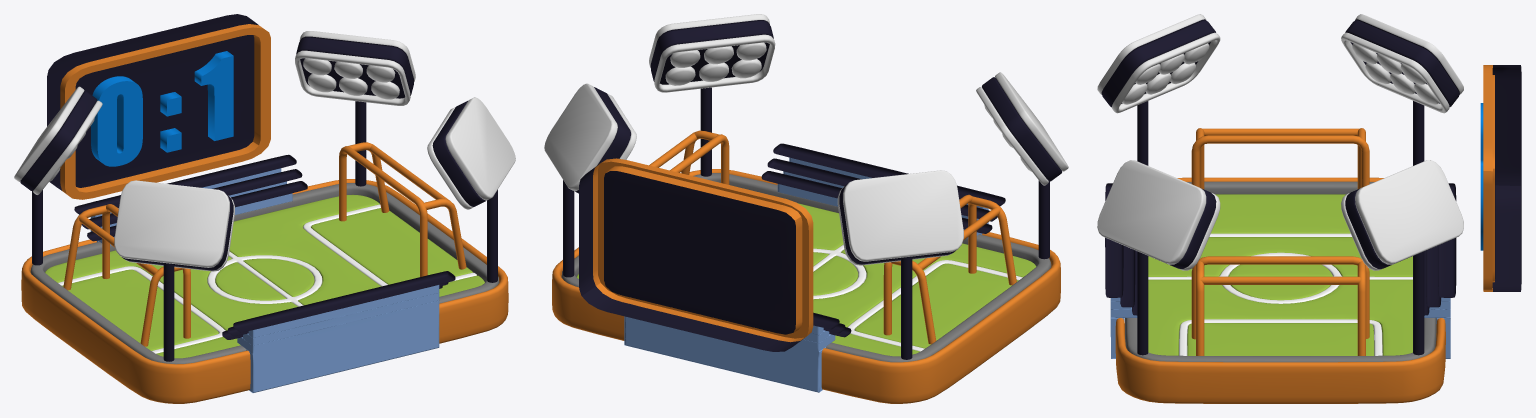
3 renders of one model, left to right at view 1: azimuth 30°, elevation 25°; view 2: azimuth 150°, elevation 25°; view 3: azimuth 270°, elevation 25°, orthographic. The views are drawn at different scales.
Visible parts, largest first — view 1: Plane, Plane.010, Retopo_Plane.007, Plane.009, Plane.003, Text, Vert.003, Plane.004, Plane.002, Plane.005, Plane.001, Plane.011; view 2: Retopo_Plane.007, Plane.010, Plane.009, Plane, Plane.003, Vert.003, Plane.004, Plane.002, Plane.005, Plane.011, Plane.001; view 3: Plane.010, Plane, Plane.009, Vert.003, Retopo_Plane.007, Plane.002, Plane.004, Plane.005, Plane.011, Plane.001, Plane.003, Text.
Boxes of the visible parts, left/top/right/bottom form: Plane: left=45, top=194, right=484, bottom=358; Plane.010: left=14, top=31, right=515, bottom=271; Retopo_Plane.007: left=47, top=14, right=270, bottom=199; Plane.009: left=21, top=179, right=508, bottom=403; Plane.003: left=90, top=168, right=439, bottom=392; Text: left=91, top=51, right=233, bottom=166; Vert.003: left=63, top=142, right=466, bottom=346; Plane.004: left=74, top=154, right=455, bottom=339; Plane.002: left=30, top=183, right=499, bottom=364; Plane.005: left=32, top=101, right=497, bottom=361; Plane.001: left=58, top=204, right=476, bottom=353; Plane.011: left=49, top=58, right=399, bottom=181; Retopo_Plane.007: left=579, top=158, right=813, bottom=351; Plane.010: left=544, top=14, right=1068, bottom=265; Plane.009: left=552, top=169, right=1060, bottom=403; Plane: left=576, top=203, right=1036, bottom=356; Plane.003: left=624, top=157, right=988, bottom=392; Vert.003: left=649, top=130, right=1016, bottom=344; Plane.004: left=761, top=143, right=1005, bottom=337; Plane.002: left=561, top=173, right=1051, bottom=362; Plane.005: left=563, top=87, right=1049, bottom=359; Plane.011: left=665, top=42, right=1031, bottom=171; Plane.001: left=813, top=244, right=1022, bottom=351; Plane.010: left=1097, top=14, right=1463, bottom=270; Plane: left=1148, top=194, right=1412, bottom=355; Plane.009: left=1115, top=177, right=1445, bottom=403; Vert.003: left=1191, top=128, right=1369, bottom=355; Retopo_Plane.007: left=1483, top=65, right=1521, bottom=291; Plane.002: left=1125, top=181, right=1436, bottom=362; Plane.004: left=1105, top=183, right=1456, bottom=315; Plane.005: left=1137, top=101, right=1424, bottom=355; Plane.011: left=1122, top=43, right=1438, bottom=104; Plane.001: left=1148, top=233, right=1412, bottom=355; Plane.003: left=1110, top=297, right=1450, bottom=358; Text: left=1480, top=103, right=1483, bottom=250.
Bounding box in the file's own units: 8.17 × 3.93 × 7.19.
